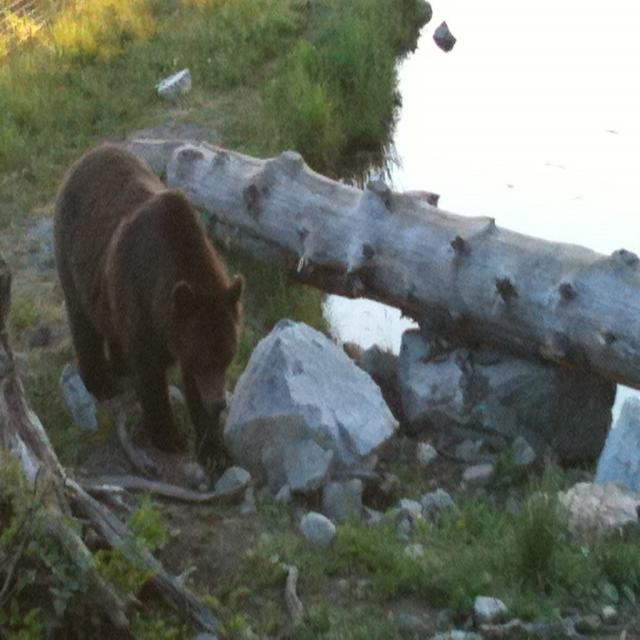bear: (30, 135, 248, 470)
